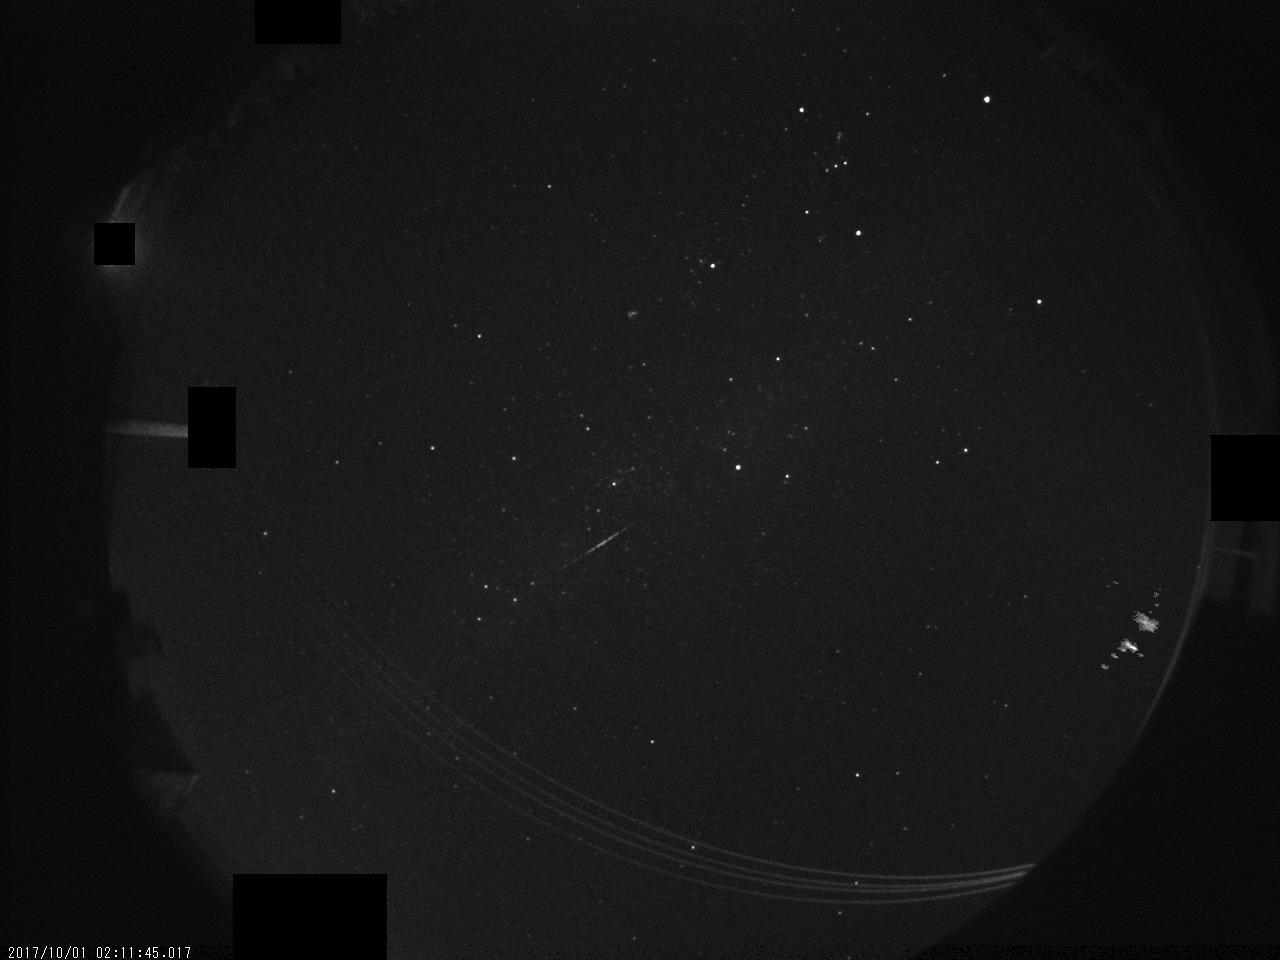TLE: (1084, 557, 1193, 721)
